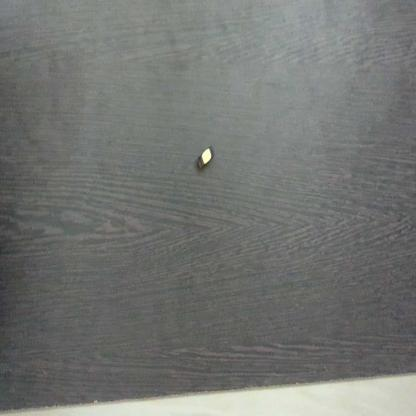NUTS: (196, 140, 220, 176)
